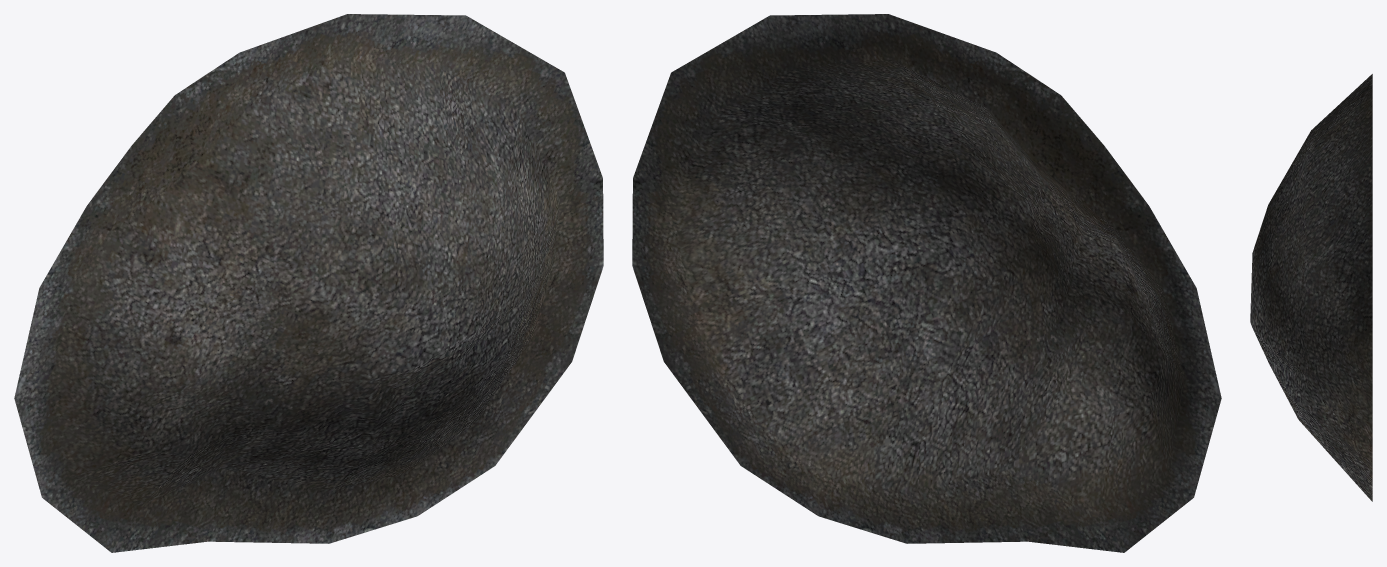
Rendered from hd_env008_SandHeap1.glb.
3 renders of one model, left to right at view 1: azimuth 30°, elevation 25°; view 2: azimuth 150°, elevation 25°; view 3: azimuth 270°, elevation 25°, orthographic. The views are drawn at different scales.
Visible parts, largest first — view 1: set_0_group_0; view 2: set_0_group_0; view 3: set_0_group_0.
Part boxes in pixels (box(x1,y1,x2,y2)): set_0_group_0: box(14, 14, 603, 552); set_0_group_0: box(632, 14, 1221, 552); set_0_group_0: box(1250, 74, 1372, 501).
Bounding box in the file's own units: 4.5 × 3.83 × 0.9101.
Materials: 1 (1 with a texture image).
